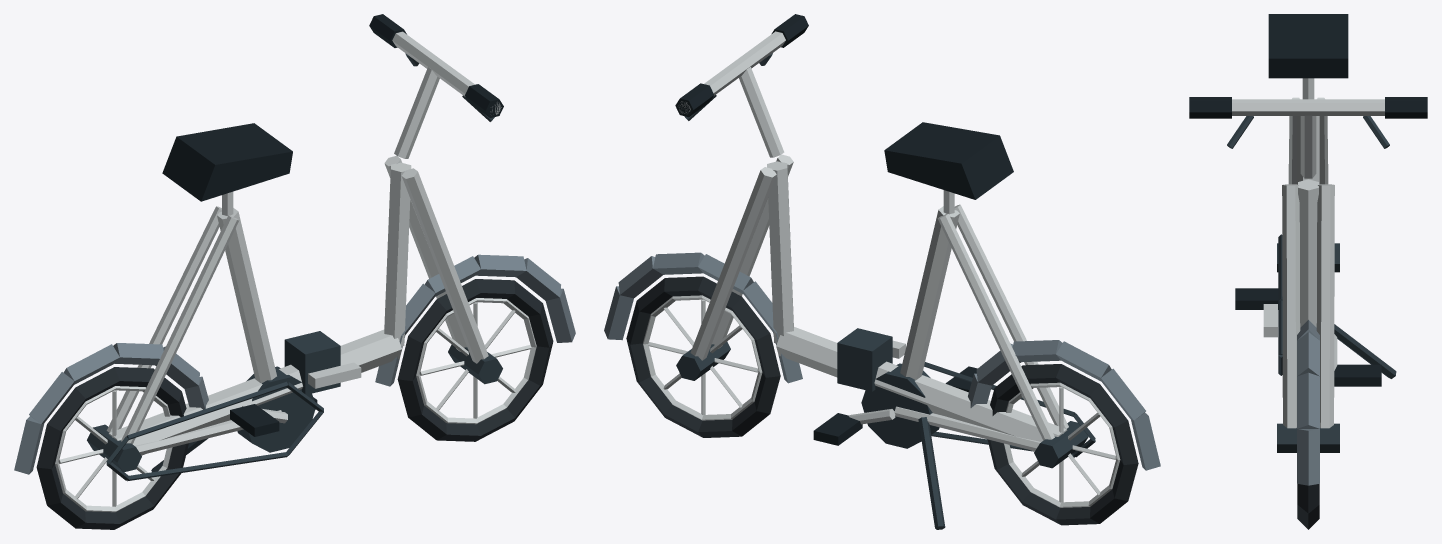
Rendered from b03_small_wheel_folding_bicycle.glb.
The picture shows the model from 3 angles, left to right: view 1: azimuth 30°, elevation 25°; view 2: azimuth 150°, elevation 25°; view 3: azimuth 270°, elevation 25°; orthographic projection. The views are drawn at different scales.
Parts seen in each view (by area): view 1: b03_small_wheel_folding_bicycle; view 2: b03_small_wheel_folding_bicycle; view 3: b03_small_wheel_folding_bicycle.
Part boxes in pixels (x1,y1,x2,y2): b03_small_wheel_folding_bicycle: [14, 14, 575, 529]; b03_small_wheel_folding_bicycle: [604, 14, 1160, 529]; b03_small_wheel_folding_bicycle: [1189, 14, 1427, 529].
Bounding box in the file's own units: 1.59 × 1.06 × 0.57.
